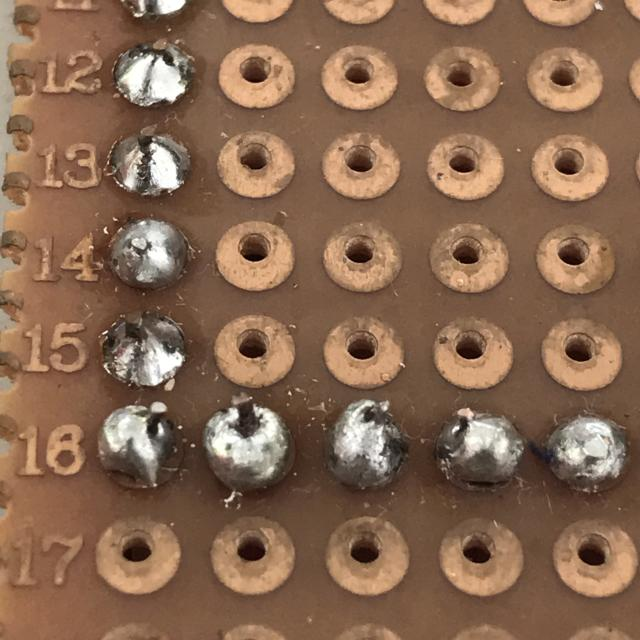excess: (314, 390, 419, 497)
good: (95, 305, 193, 394), (101, 210, 198, 298), (100, 123, 198, 205), (107, 34, 202, 115)
hole: (194, 391, 304, 502)
pad_less: (92, 397, 191, 497)
